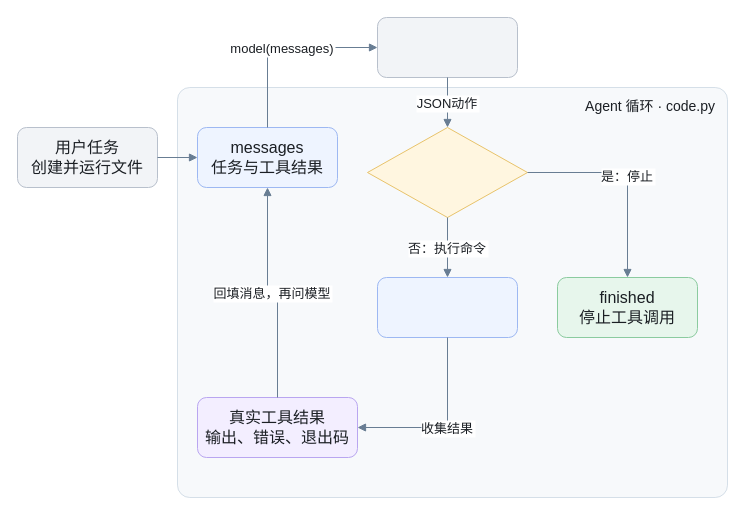
Image size: 745x515. Some labels were removed from this diagram. Here are the shapes that lost their labels. From the top down, the centre of each, then its label:
At (x=447, y=47): "模型入口 返回 JSON 动作".
At (x=447, y=172): "tool_calls 为空？".
At (x=447, y=307): "run_bash() 执行真实命令".
